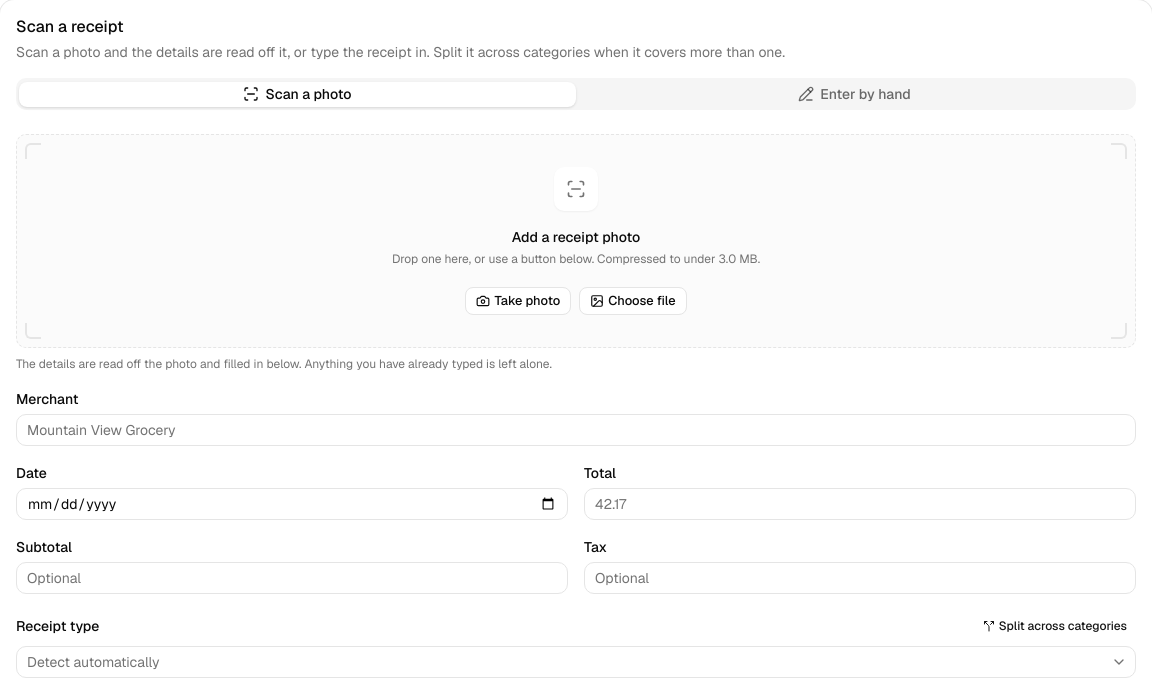
Test: ScanForm › shows field errors returned by the server
Type "Shell" into the field labelled "Merchant" at (576, 430), box [16, 414, 1136, 446]
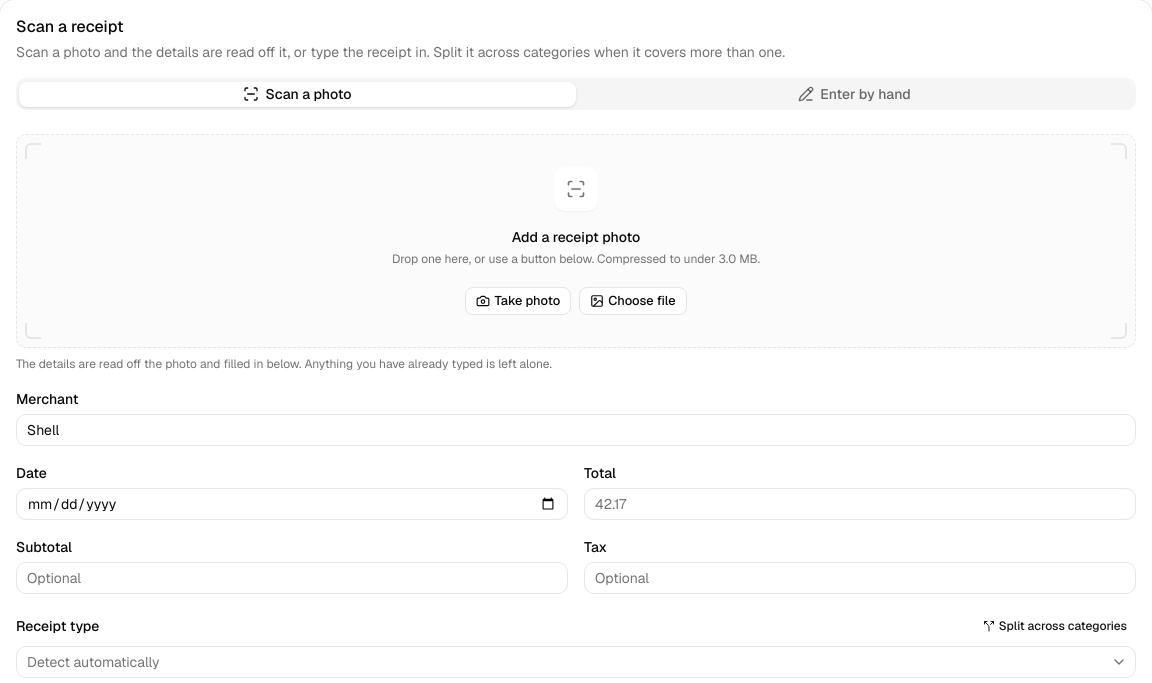
Type "54.10" into the field labelled "Total" at (860, 504), box [584, 488, 1136, 520]
(page scrolled)
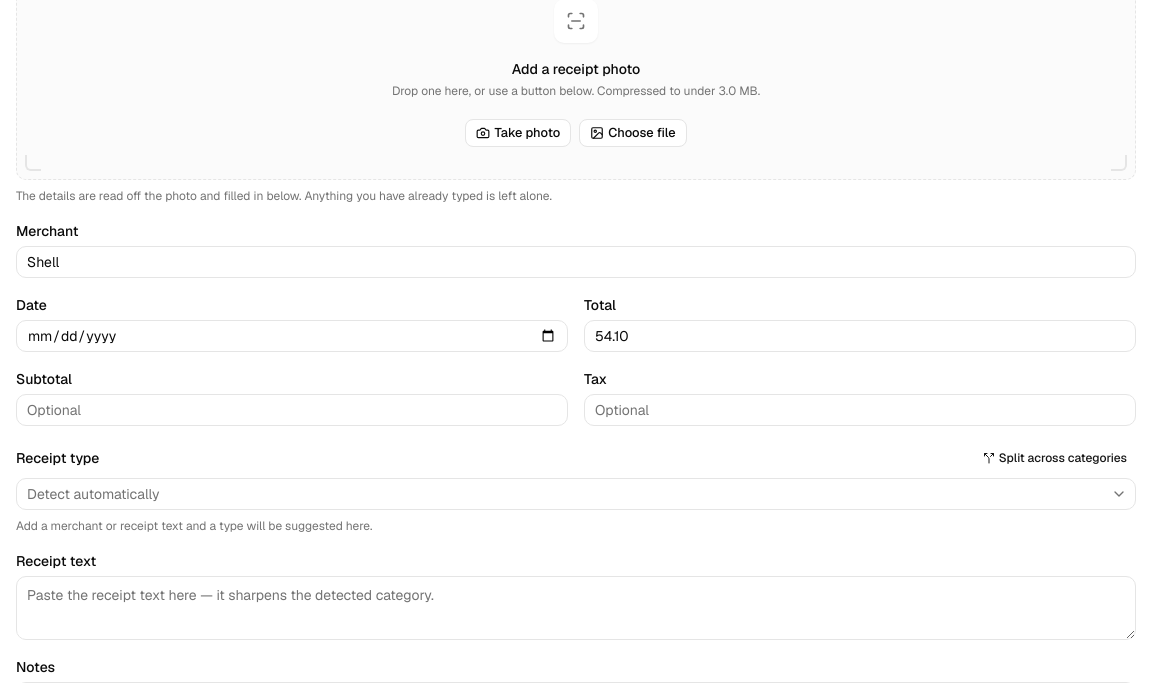
Submit the form named "Save receipt"
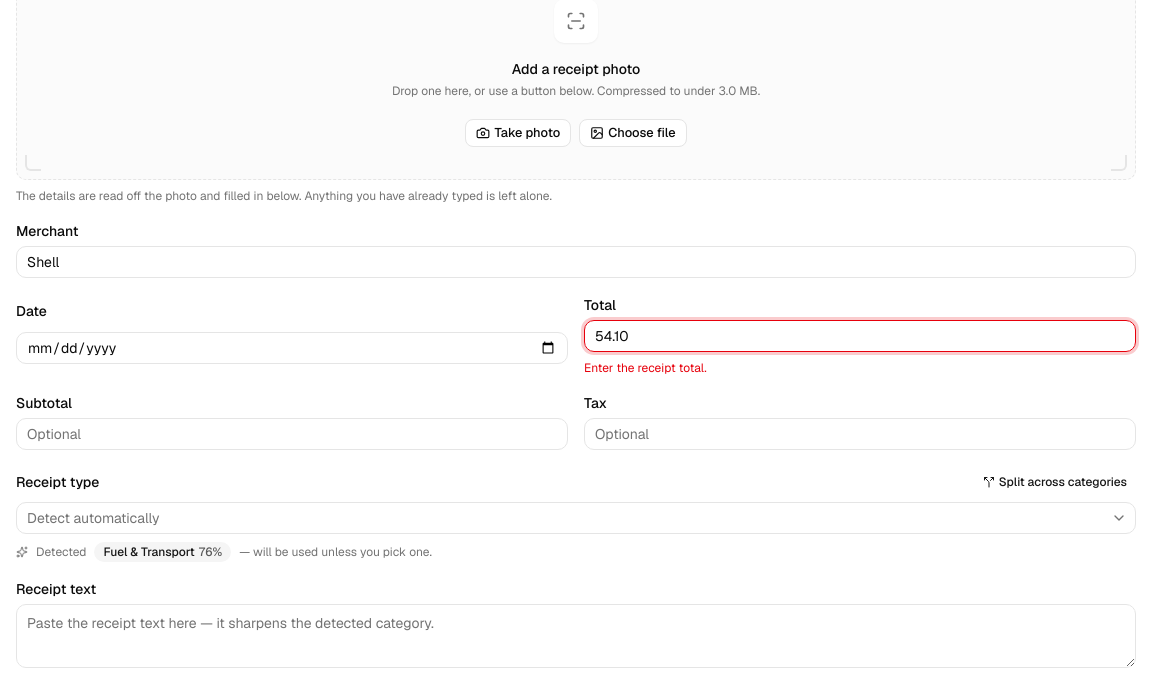
expect the text "Enter the receipt total." is shown: met, box [584, 360, 707, 376]
